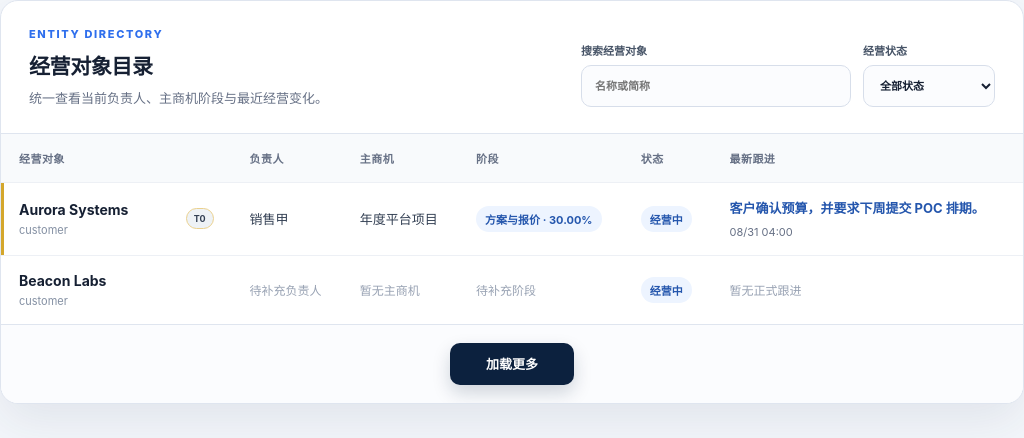
Test: BusinessEntityDirectory › appends a cursor page without rendering duplicate entities
The width and height of the screenshot is (1024, 438).
Expected: the text "Aurora Systems" is shown, [19,201,128,218]
Click the button "加载更多". click: (512, 364)
box: [450,342,574,384]
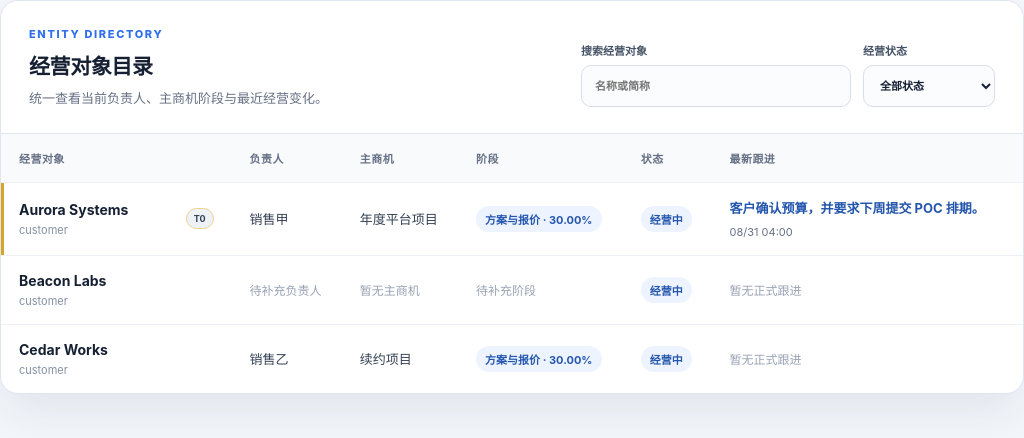
Expected: the number of rows with test id "business-entity-row" is 3, [1,182,1023,255]; [1,255,1023,324]; [1,324,1023,392]
Expected: the text "Cedar Works" is shown, [19,340,108,358]
